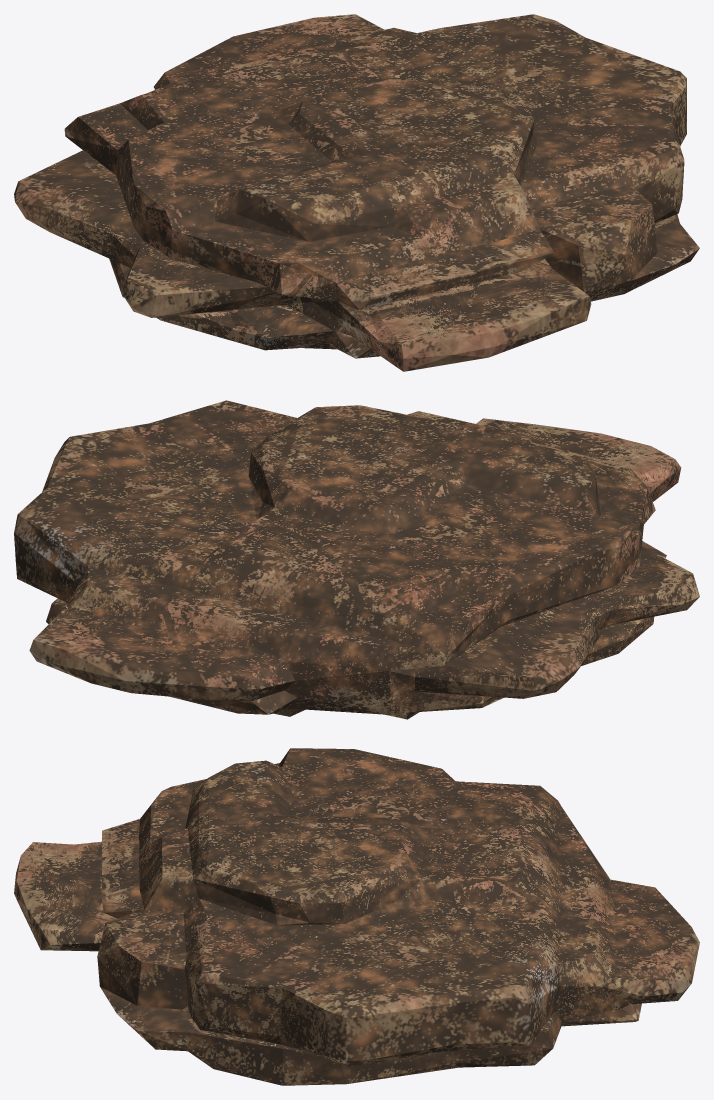
The model's file is Rock2.fbx.
3 views of the same model, one above another, from view 1: azimuth 30°, elevation 25°; view 2: azimuth 150°, elevation 25°; view 3: azimuth 270°, elevation 25° (orthographic). The views are drawn at different scales.
Visible parts, largest first — view 1: stone4_low_uv:Mesh; view 2: stone4_low_uv:Mesh; view 3: stone4_low_uv:Mesh.
Part boxes in pixels (bbox=[...]): stone4_low_uv:Mesh: bbox=[14, 14, 699, 371]; stone4_low_uv:Mesh: bbox=[14, 400, 699, 719]; stone4_low_uv:Mesh: bbox=[14, 748, 699, 1085].
Bounding box in the file's own units: 420 × 102 × 449.
1 material, 1 textured.
